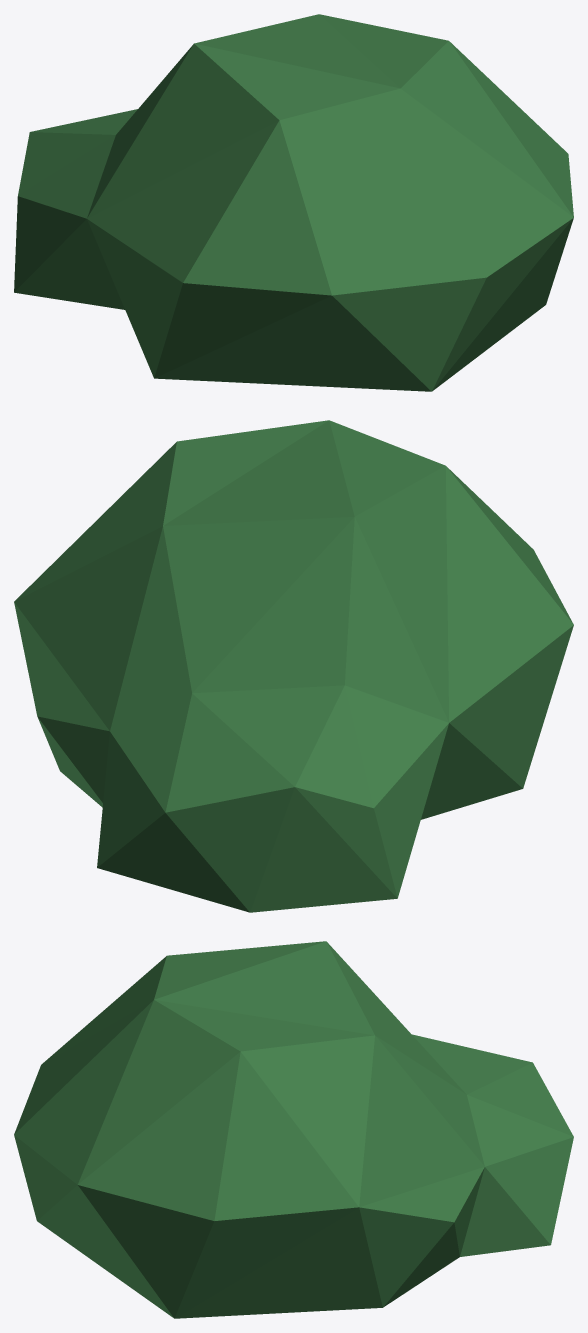
The model's file is Bush 1.fbx.
3 views of the same model, one above another, from view 1: azimuth 30°, elevation 25°; view 2: azimuth 150°, elevation 25°; view 3: azimuth 270°, elevation 25° (orthographic). The views are drawn at different scales.
Parts seen in each view (by area): view 1: Icosphere.001; view 2: Icosphere.001; view 3: Icosphere.001.
Part boxes in pixels (bbox=[...]): Icosphere.001: bbox=[14, 14, 573, 391]; Icosphere.001: bbox=[14, 420, 573, 912]; Icosphere.001: bbox=[14, 941, 573, 1318].
Bounding box in the file's own units: 208 × 137 × 252.
